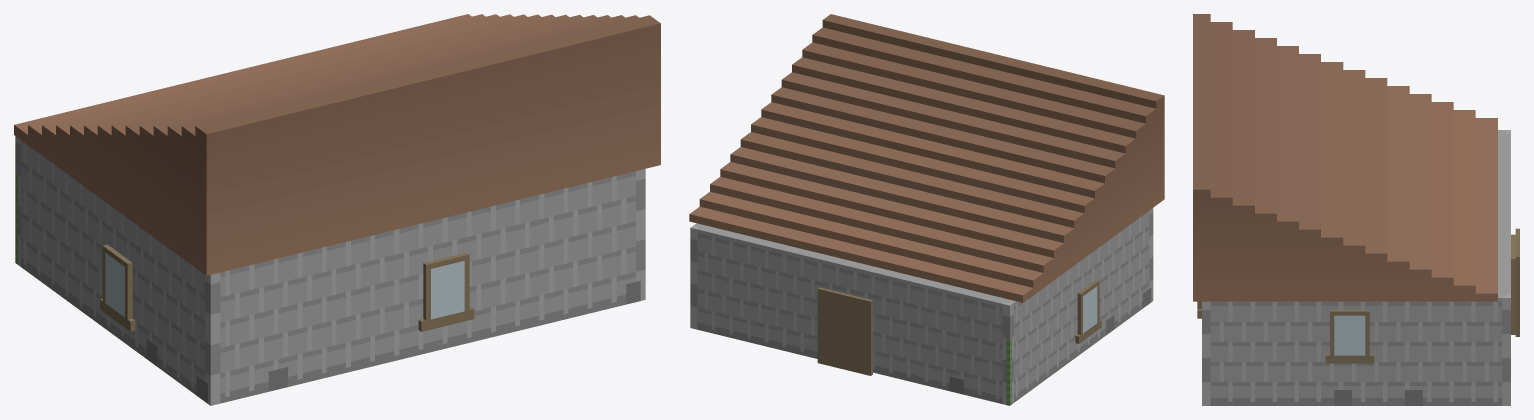
The model's file is taller_picapedrero_04.glb.
3 views of the same model, side by side, from view 1: azimuth 30°, elevation 25°; view 2: azimuth 150°, elevation 25°; view 3: azimuth 270°, elevation 25° (orthographic). The views are drawn at different scales.
Parts seen in each view (by area): view 1: taller_picapedrero_04; view 2: taller_picapedrero_04; view 3: taller_picapedrero_04.
Boxes of the visible parts, <box> form: taller_picapedrero_04: <box>14,14,660,405</box>; taller_picapedrero_04: <box>689,14,1164,405</box>; taller_picapedrero_04: <box>1193,14,1519,405</box>.
Bounding box in the file's own units: 9.4 × 5.5 × 7.4.
